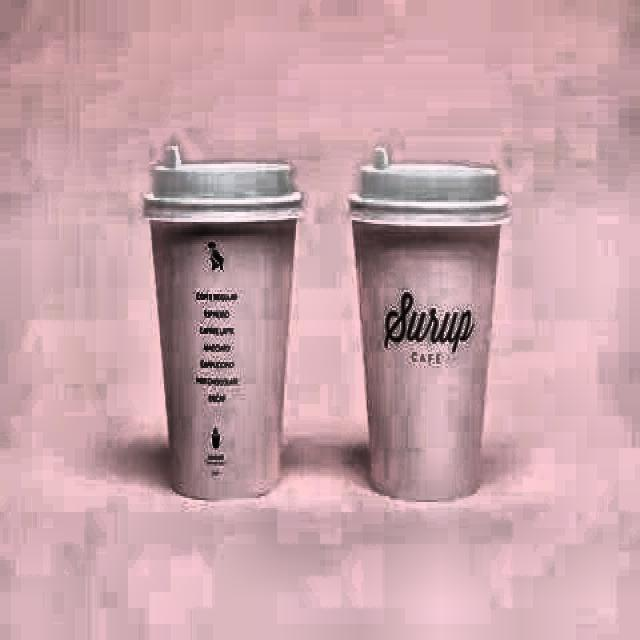Cup: (140, 158, 307, 508), (357, 143, 505, 512)
